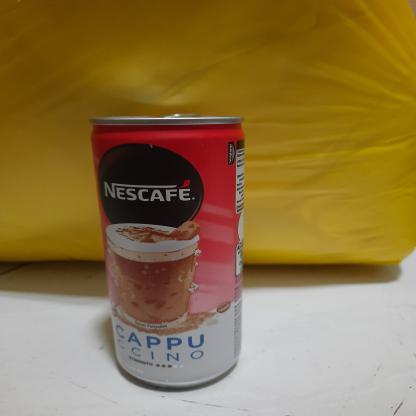can: (86, 110, 252, 398)
